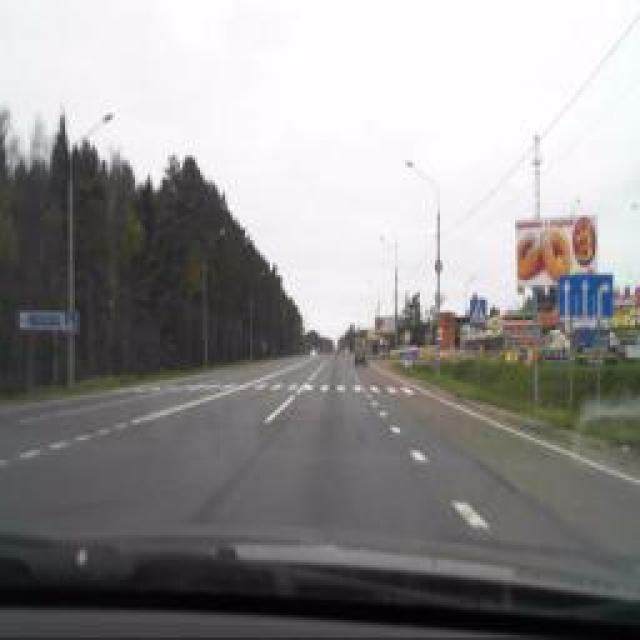sign: (558, 272, 614, 320), (469, 299, 486, 326), (64, 310, 78, 338)
